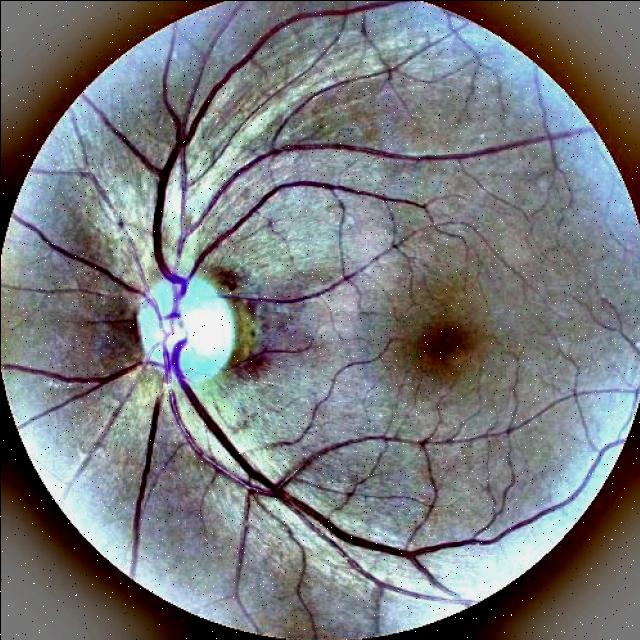Macula: (414, 316, 483, 379)
Optic Disk: (161, 274, 235, 379), (137, 290, 185, 378), (150, 274, 193, 310)
